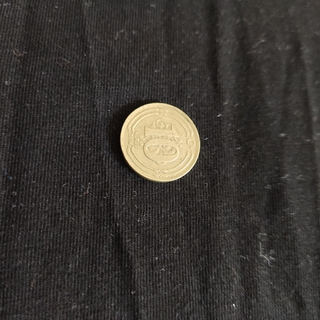10KURUS: (118, 100, 202, 184)
